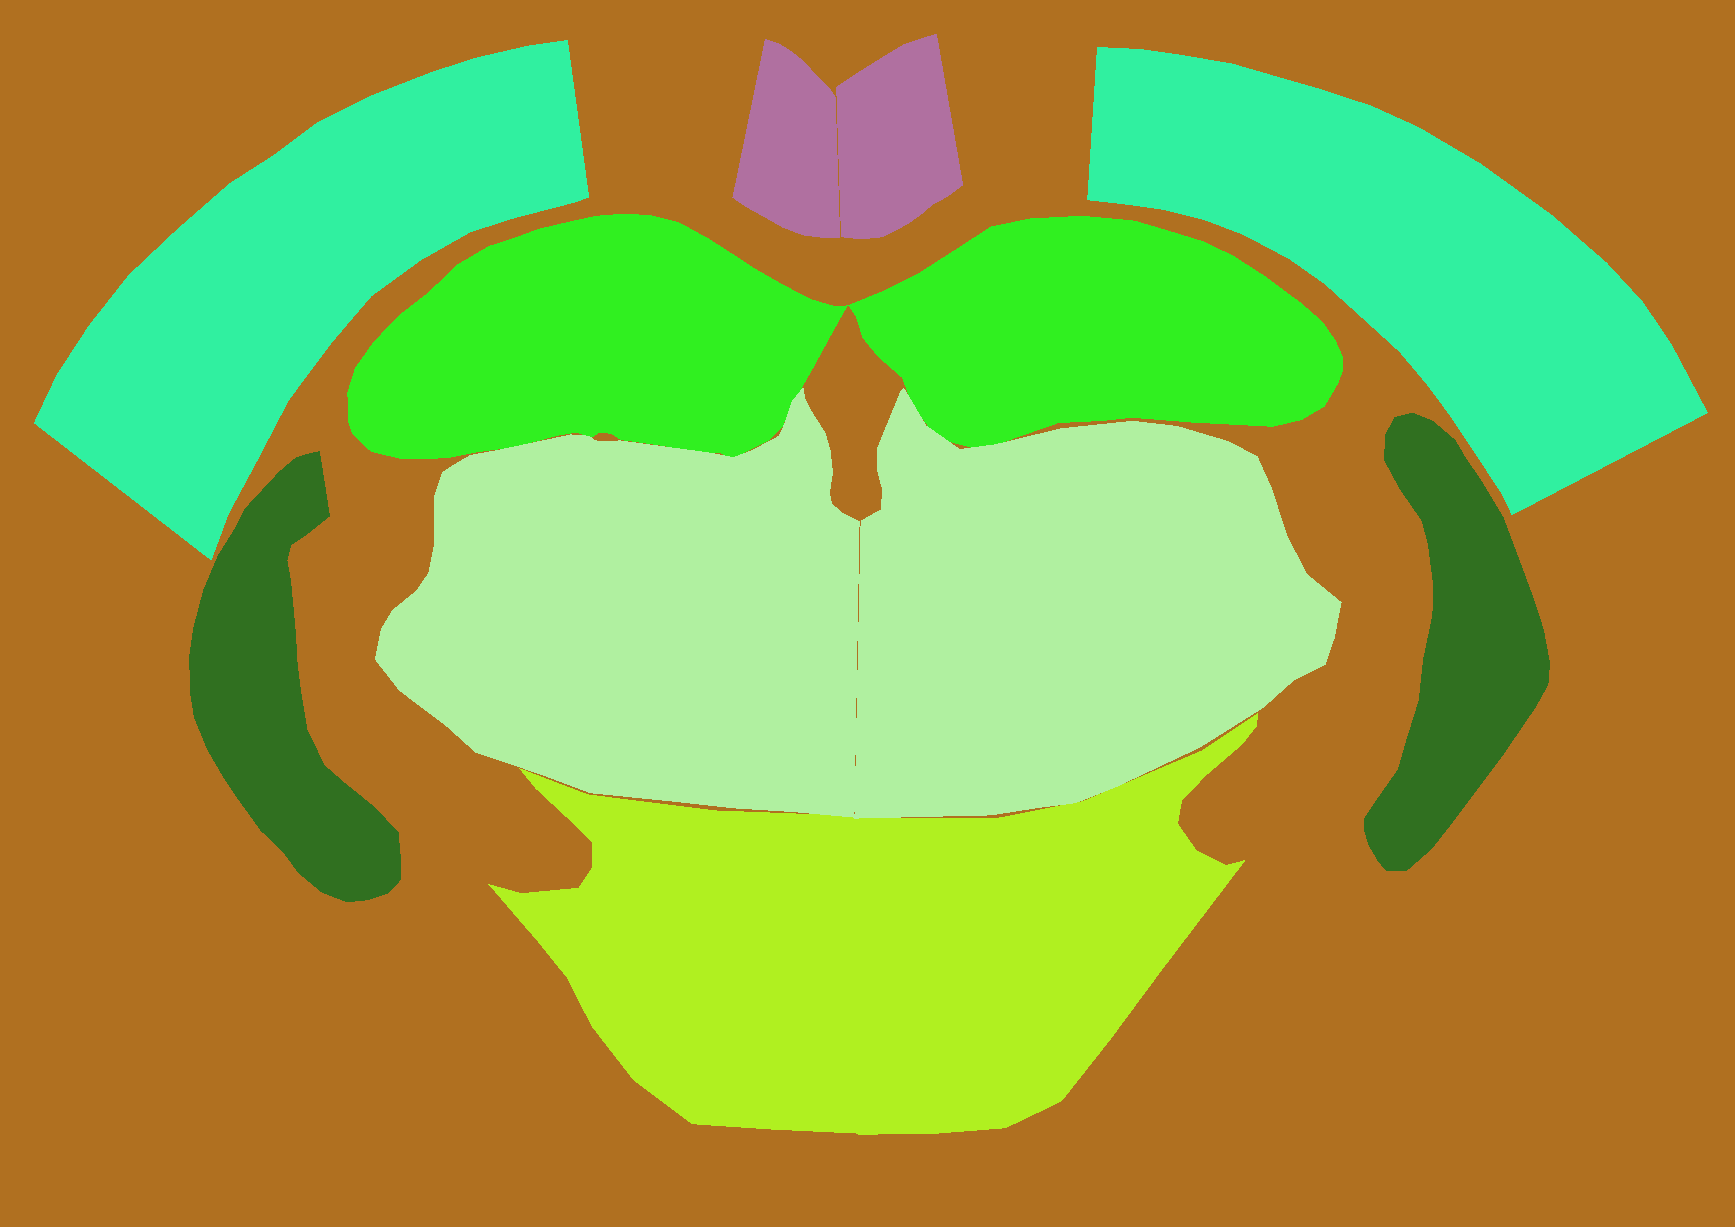Cerebral nuclei: (189, 451, 401, 902), (1365, 413, 1550, 871)
Hippocampal formation: (346, 214, 848, 459), (848, 216, 1343, 449)
Hypothalamus: (855, 713, 1258, 1135), (489, 768, 858, 1134)
Retrosplenial area: (836, 35, 962, 240), (731, 39, 840, 238)
Somatosensory area: (1087, 46, 1708, 515), (35, 40, 589, 560)
Thalamus: (854, 388, 1341, 819), (374, 386, 860, 818)
